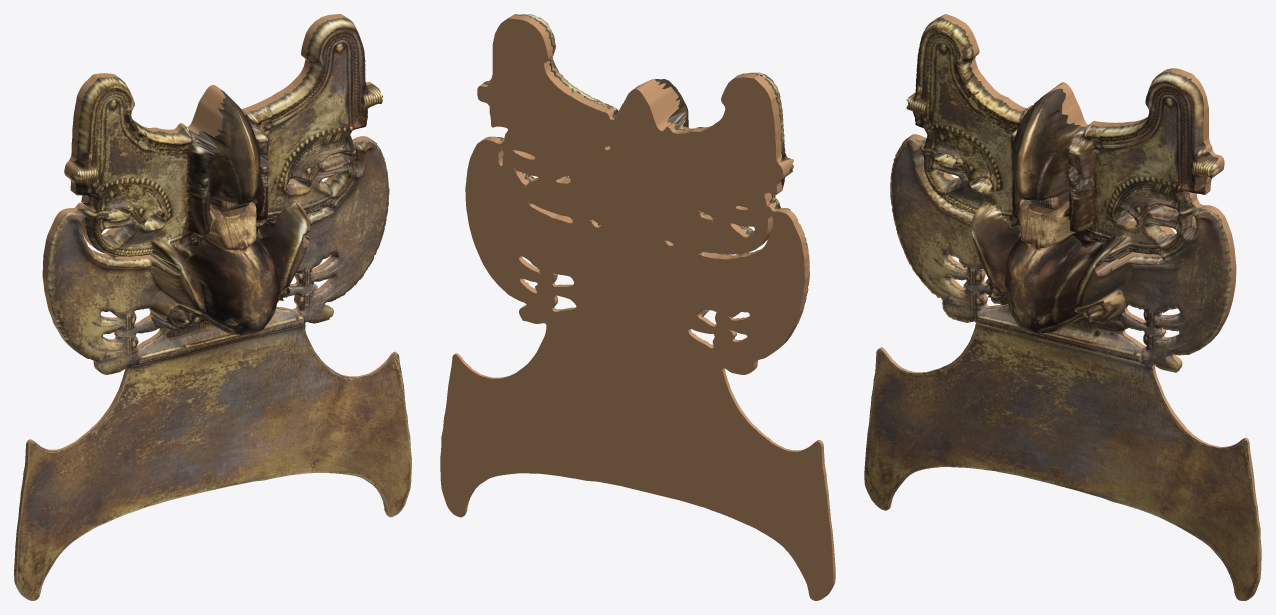
Rendered from ave_tairona.glb.
3 renders of one model, left to right at view 1: azimuth 30°, elevation 25°; view 2: azimuth 150°, elevation 25°; view 3: azimuth 330°, elevation 25°, orthographic.
Visible parts, largest first — view 1: ave_tairona; view 2: ave_tairona; view 3: ave_tairona.
Part boxes in pixels (x1,y1,x2,y2): ave_tairona: (14,14,411,600); ave_tairona: (440,14,835,600); ave_tairona: (864,14,1261,600).
Bounding box in the file's own units: 7.51 × 9.35 × 1.46.
1 material, 1 textured.
